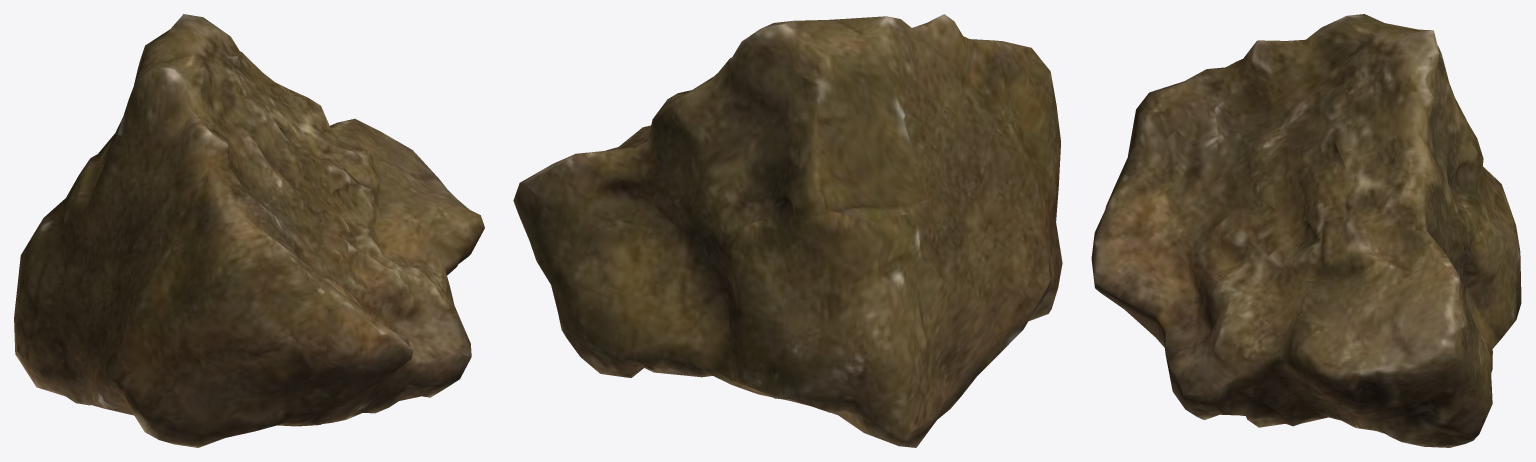
Rendered from rock_3.glb.
3 renders of one model, left to right at view 1: azimuth 30°, elevation 25°; view 2: azimuth 150°, elevation 25°; view 3: azimuth 270°, elevation 25°, orthographic. The views are drawn at different scales.
Parts seen in each view (by area): view 1: rock_moss_set_01_rock04; view 2: rock_moss_set_01_rock04; view 3: rock_moss_set_01_rock04.
Boxes of the visible parts, box(x1,y1,x2,y2) form: rock_moss_set_01_rock04: box(14, 14, 484, 447); rock_moss_set_01_rock04: box(513, 14, 1062, 447); rock_moss_set_01_rock04: box(1091, 14, 1521, 447).
Size of the model in its own units: 2.13 by 1.77 by 1.96.
Materials: 1 (1 with a texture image).
